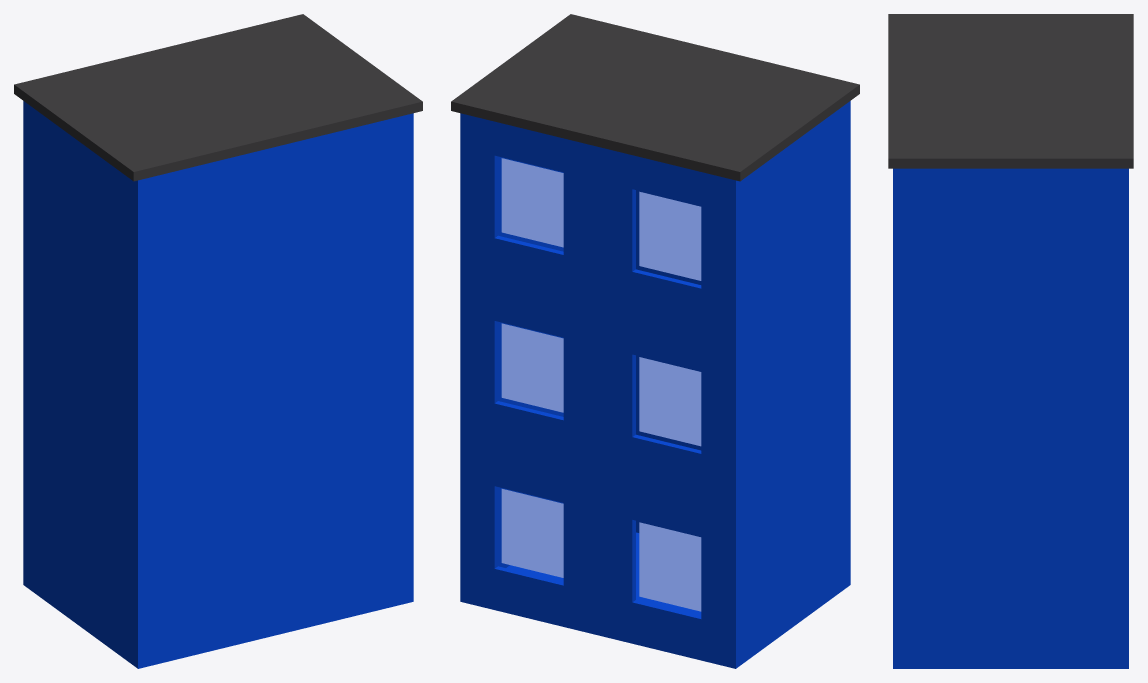
File: building.fbx
3 views of the same model, side by side, from view 1: azimuth 30°, elevation 25°; view 2: azimuth 150°, elevation 25°; view 3: azimuth 270°, elevation 25° (orthographic). The views are drawn at different scales.
Visible parts, largest first — view 1: Building, Cube; view 2: Building, Cube, Window5, Window3, Window2, Window6, Window1, Window4; view 3: Building, Cube.
Boxes of the visible parts, left/top/right/bottom form: Building: left=23, top=101, right=413, bottom=668; Cube: left=14, top=14, right=422, bottom=181; Building: left=460, top=101, right=850, bottom=668; Cube: left=451, top=14, right=859, bottom=181; Window5: left=501, top=489, right=563, bottom=577; Window3: left=501, top=323, right=563, bottom=412; Window2: left=639, top=191, right=701, bottom=280; Window6: left=639, top=522, right=701, bottom=611; Window1: left=501, top=158, right=563, bottom=247; Window4: left=639, top=357, right=701, bottom=446; Building: left=893, top=168, right=1128, bottom=668; Cube: left=888, top=14, right=1133, bottom=168.
Size of the model in its own units: 177 by 293 by 127.
